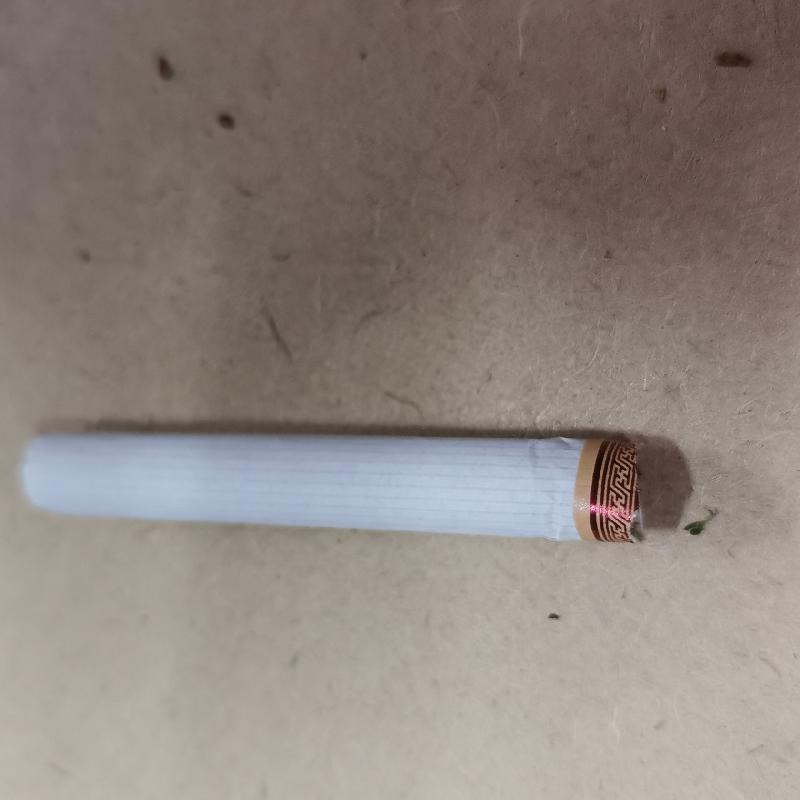cigarette: (14, 418, 655, 553)
